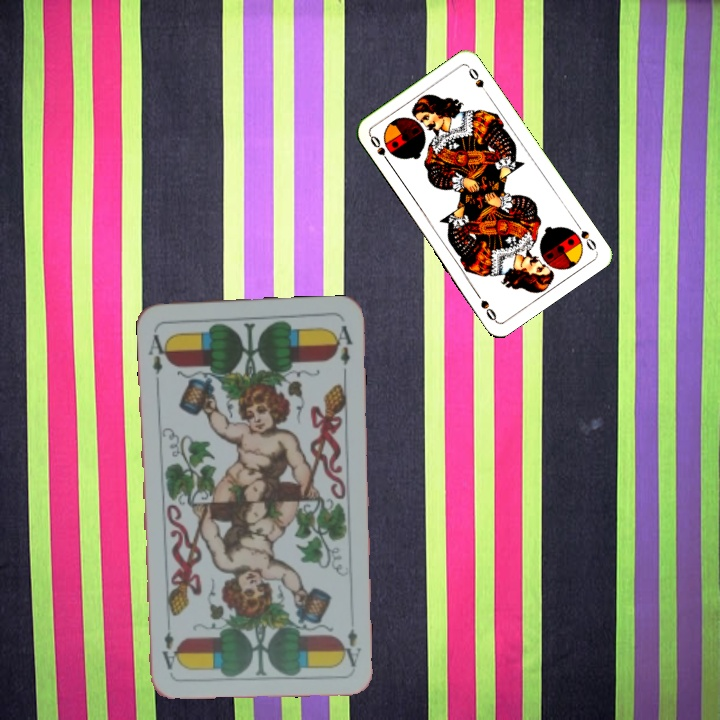EA: (144, 325, 171, 377), (337, 624, 363, 669)
SO: (366, 131, 393, 167), (572, 218, 599, 254)
